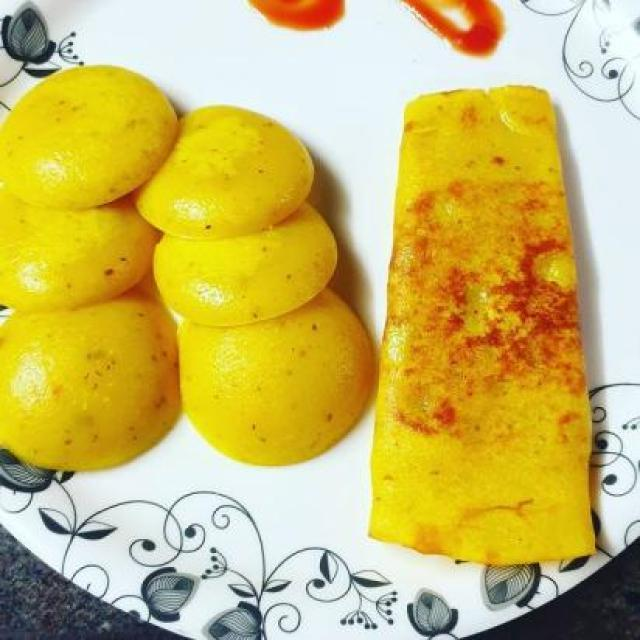dosa: (350, 64, 640, 604)
idli: (172, 280, 407, 480), (0, 283, 191, 487), (0, 59, 194, 224), (118, 97, 334, 236), (146, 223, 340, 332), (0, 200, 163, 326)
